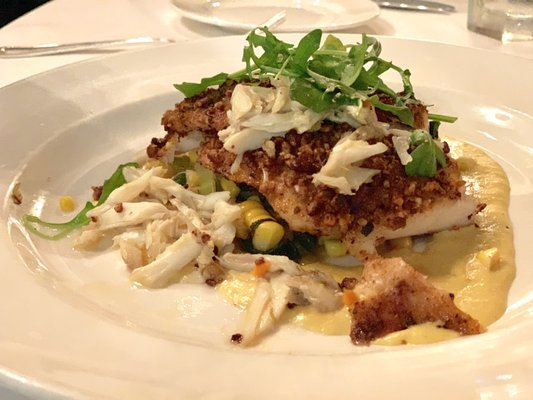soup: (161, 27, 508, 260)
